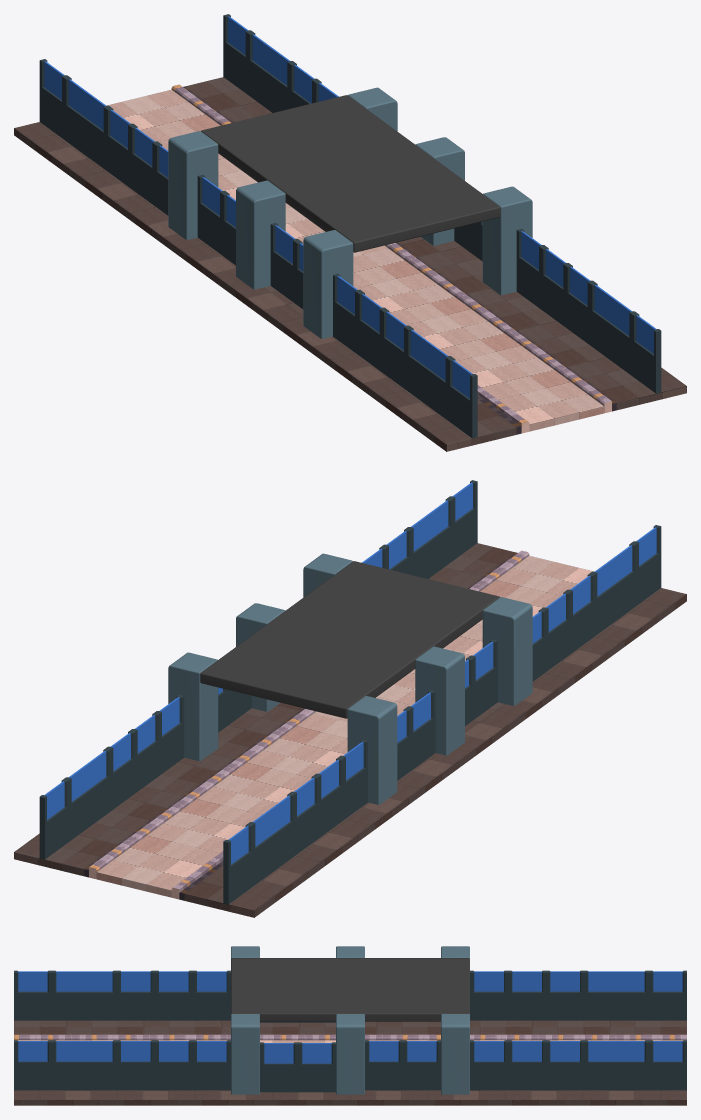
The model's file is Mixed_Chunk01_2mLane.fbx.
3 renders of one model, top to bottom at view 1: azimuth 30°, elevation 25°; view 2: azimuth 150°, elevation 25°; view 3: azimuth 270°, elevation 25°, orthographic. The views are drawn at different scales.
Visible parts, largest first — view 1: Base1, Arch1, SideWall_023, SideWall_024; view 2: Base1, Arch1, SideWall_023, SideWall_024; view 3: SideWall_024, Arch1, Base1, SideWall_023.
Part boxes in pixels (x1,y1,x2,y2): Base1: (14, 77, 686, 451); Arch1: (168, 87, 532, 338); SideWall_023: (39, 59, 477, 438); SideWall_024: (223, 14, 661, 393); Base1: (14, 543, 686, 917); Arch1: (168, 553, 532, 804); SideWall_023: (223, 525, 661, 904); SideWall_024: (39, 480, 477, 859); SideWall_024: (14, 1040, 686, 1092); Arch1: (231, 946, 469, 1094); Base1: (14, 1020, 686, 1105); SideWall_023: (14, 970, 686, 1022).
Size of the model in its own units: 1925 by 732 by 6000.
